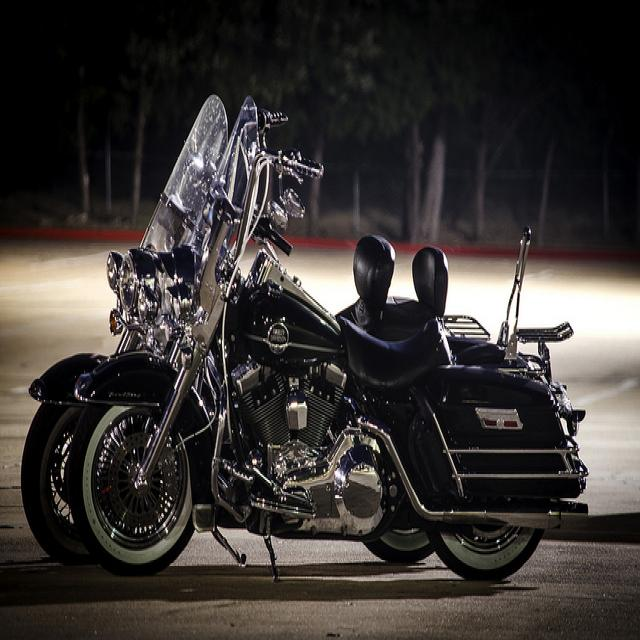motor: (66, 91, 593, 591), (23, 96, 411, 567)
